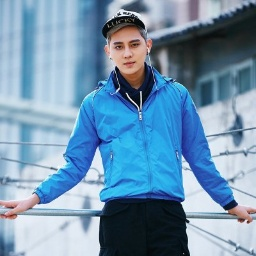face: (101, 20, 154, 77)
